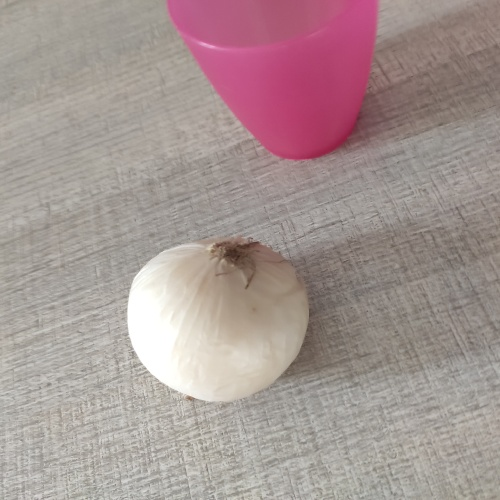cipolla: (118, 232, 320, 409)
